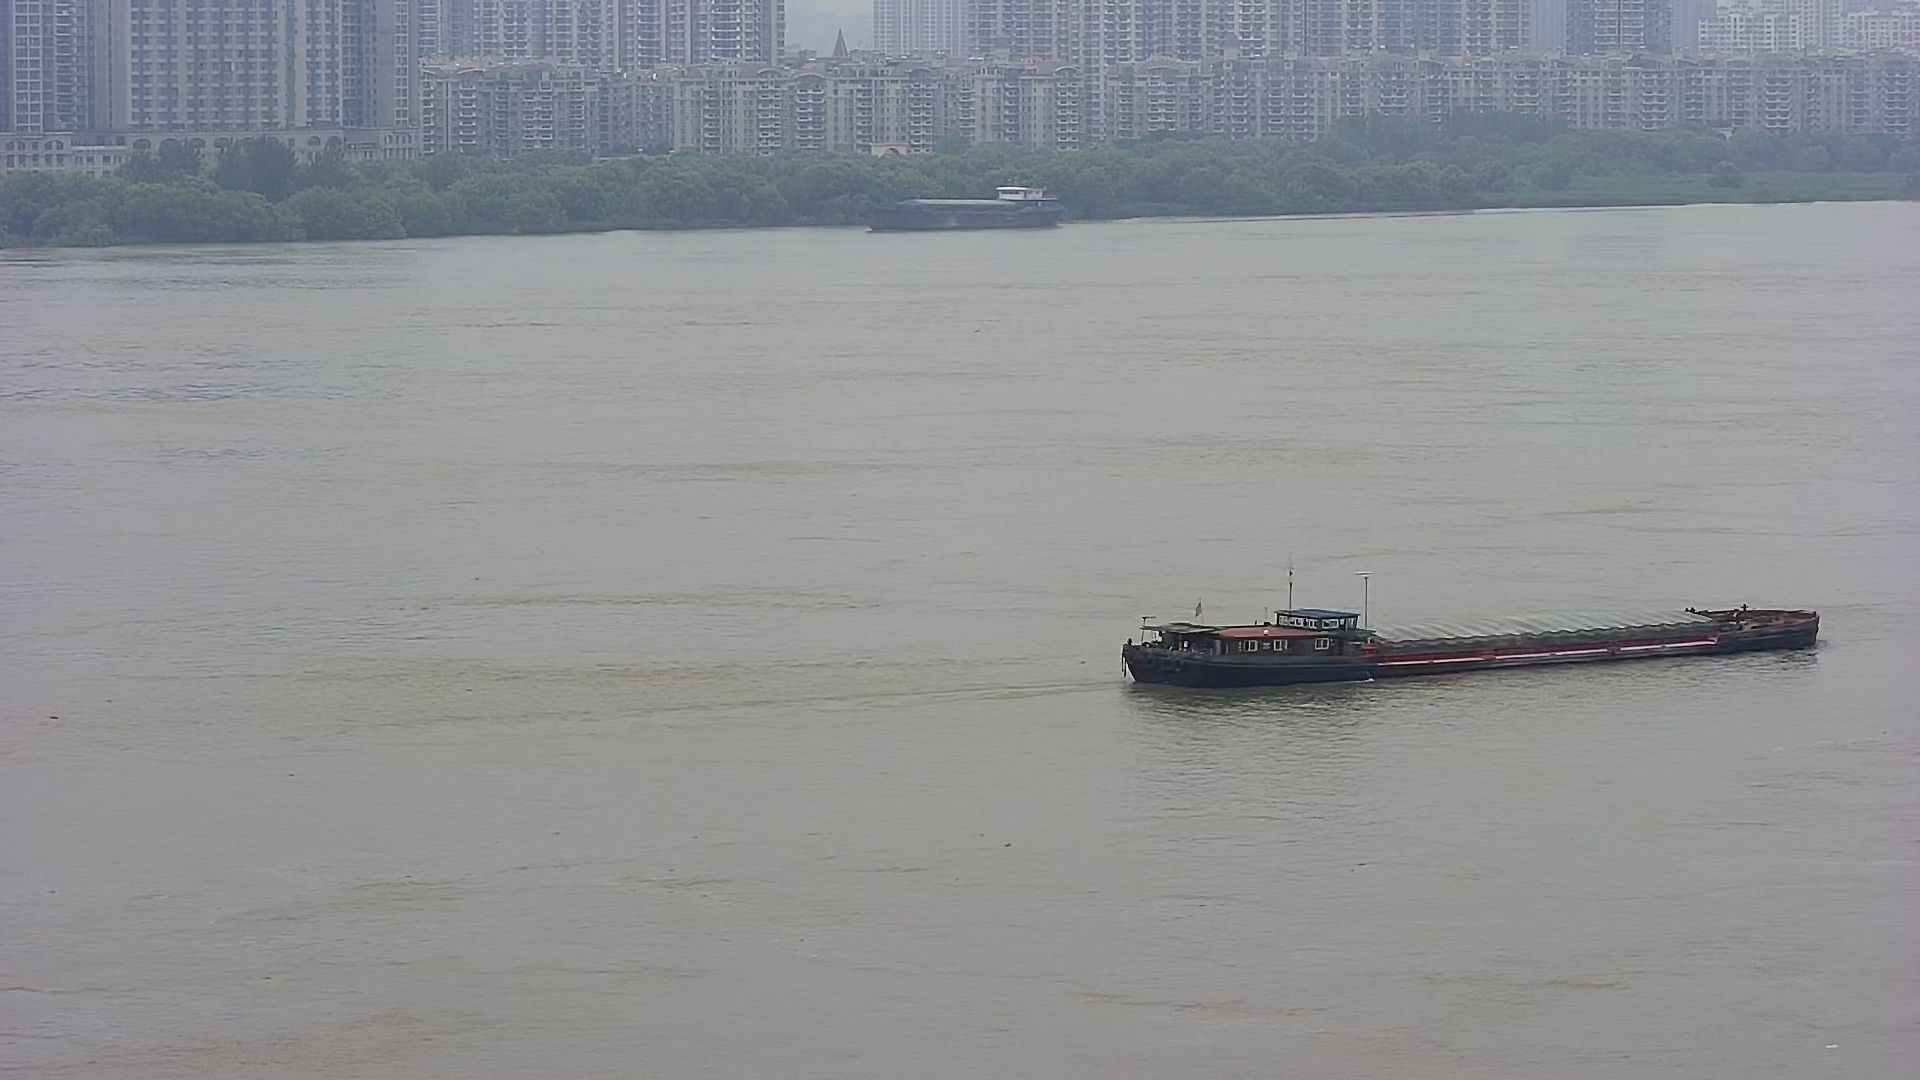ship: (1120, 575, 1867, 698), (853, 170, 1080, 239)
